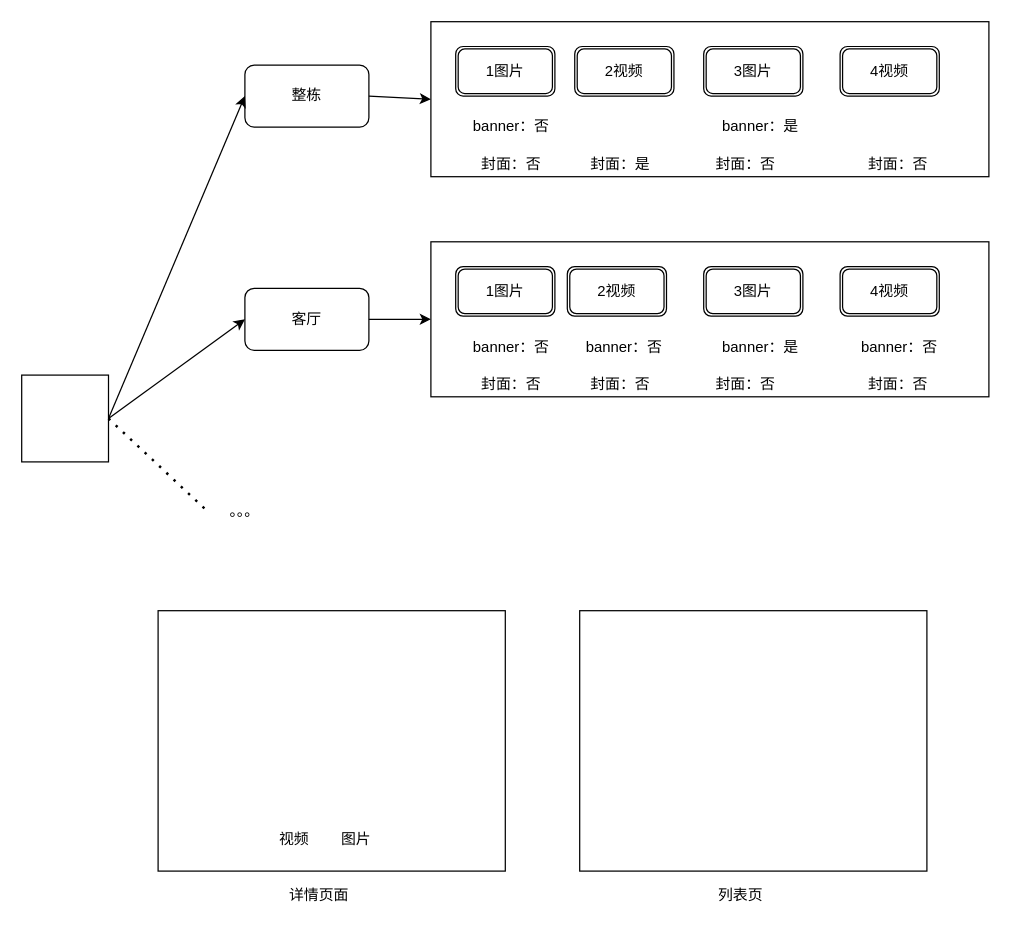
The diagram is 1011 pixels wide and 930 high, and some of its shapes have lost their labels. Each missing label, with the centre of its shape:
"房源相册集" belongs at point (64, 418).
"视频封面，聚焦播放" belongs at point (752, 740).
